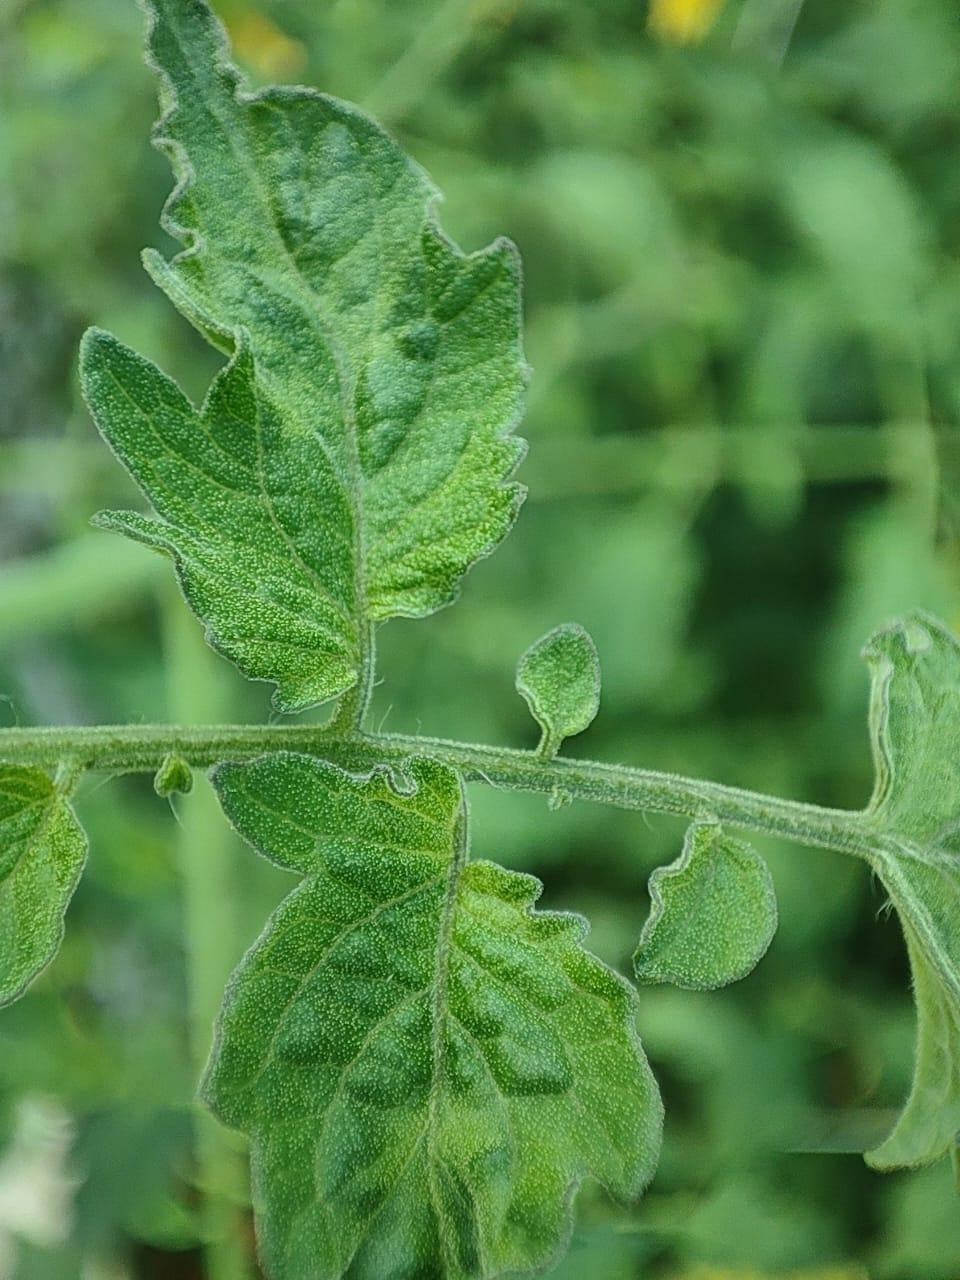Hoja rugoso: (80, 0, 525, 739), (202, 746, 659, 1279), (856, 617, 959, 1170), (633, 821, 777, 990), (515, 624, 600, 758)
Pedunculo rugoso: (0, 724, 871, 859)
